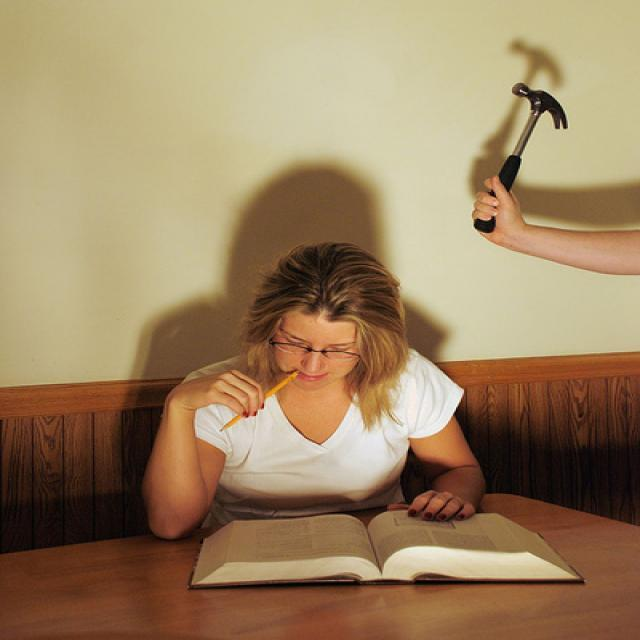hammer: (452, 80, 572, 236)
